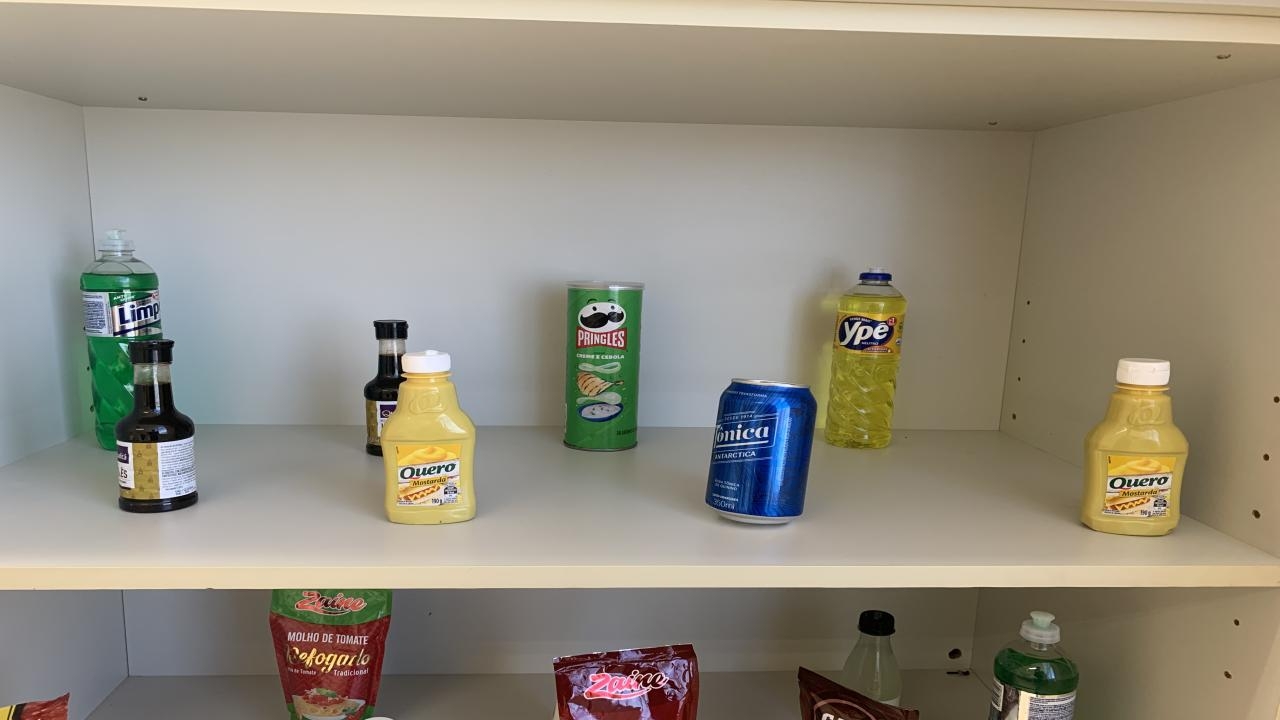Coffee-Pantry_Items: (796, 665, 924, 720)
Detergent-Cleanup_Items: (78, 226, 168, 449), (817, 271, 908, 452), (989, 611, 1082, 720)
English_Sauce-Pantry_Items: (115, 338, 202, 516), (366, 319, 413, 451)
Mustard-Pantry_Items: (1081, 359, 1191, 540), (376, 350, 479, 529)
Pringles-Snacks: (562, 286, 647, 454)
Soda-Drinks: (825, 609, 905, 710)
Tomato_Sauce-Pantry_Items: (268, 590, 395, 720), (552, 644, 701, 720)
Tonic-Drinks: (704, 381, 816, 529)
